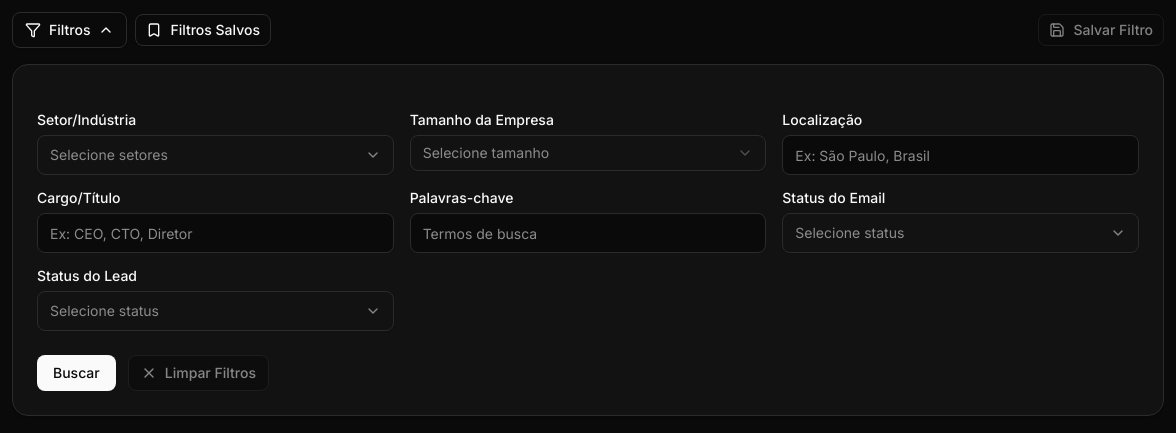
Scenario: FilterPanel › clears input fields visually when clearFilters is clicked
This screenshot has width=1176, height=433.
# Type in the keywords input
In the field with test id "keywords-input": [588, 233] box x1=410 y1=213 x2=766 y2=253, type "test keywords"
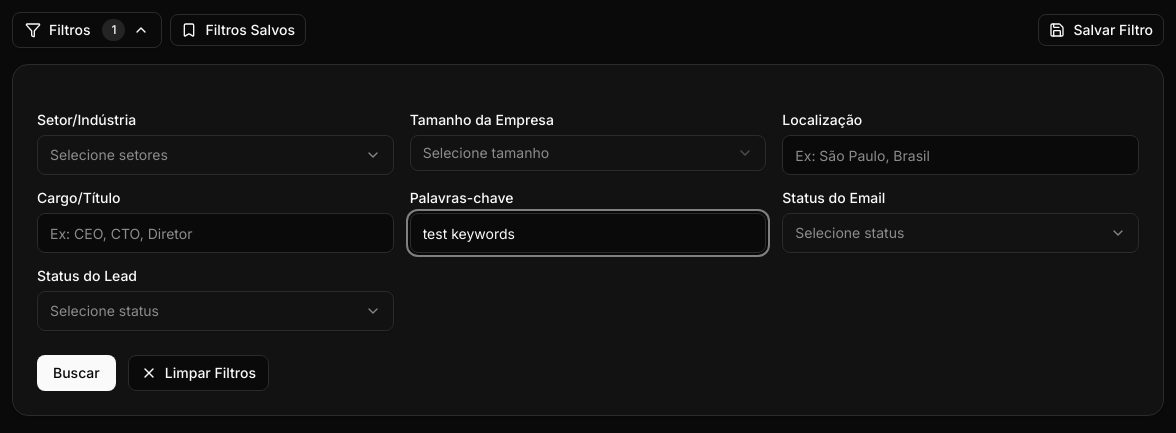
# Click clear filters
Click the button with test id "clear-filters-button": [198, 373] box x1=128 y1=355 x2=269 y2=391
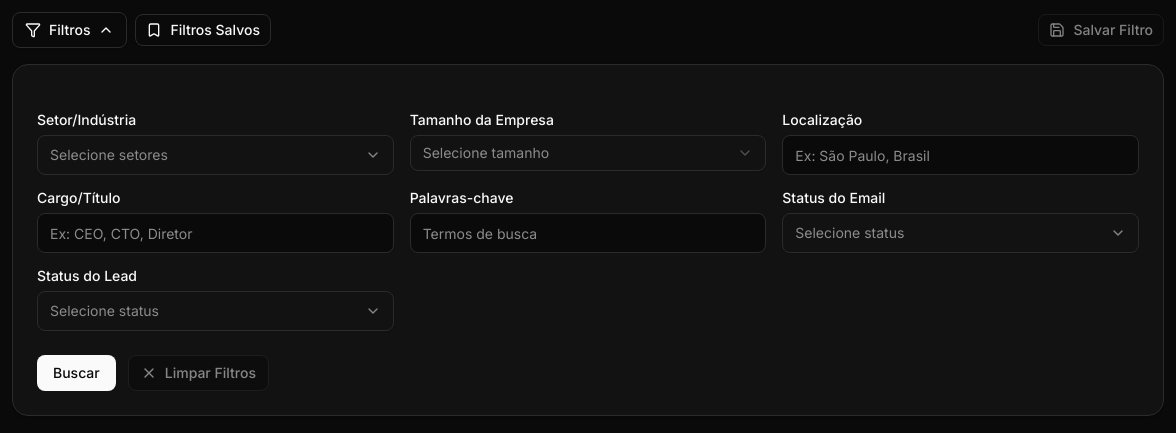
Expected: the field with test id "keywords-input" is empty, x1=410 y1=213 x2=766 y2=253
